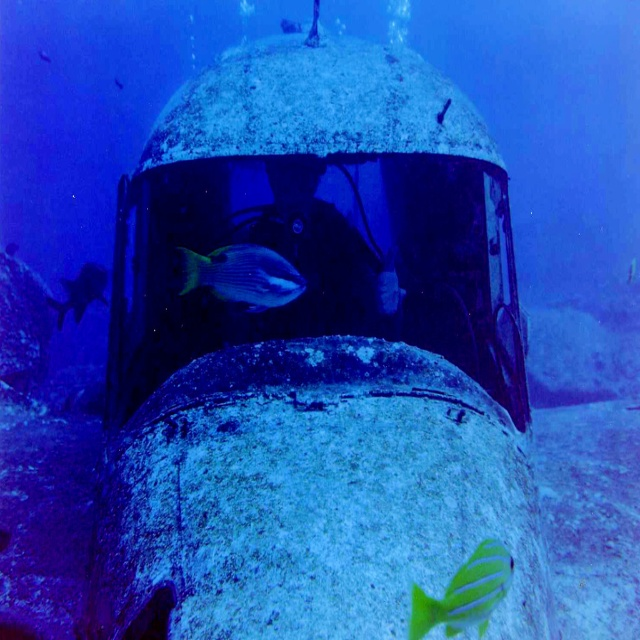Fish: (410, 535, 515, 639), (176, 240, 301, 316), (54, 271, 113, 328)
